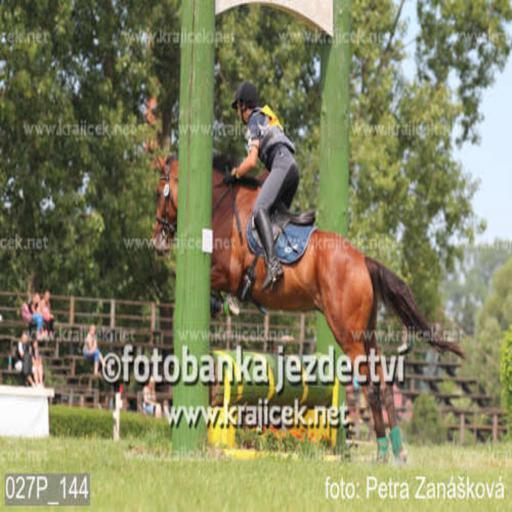horse: (151, 154, 467, 466)
